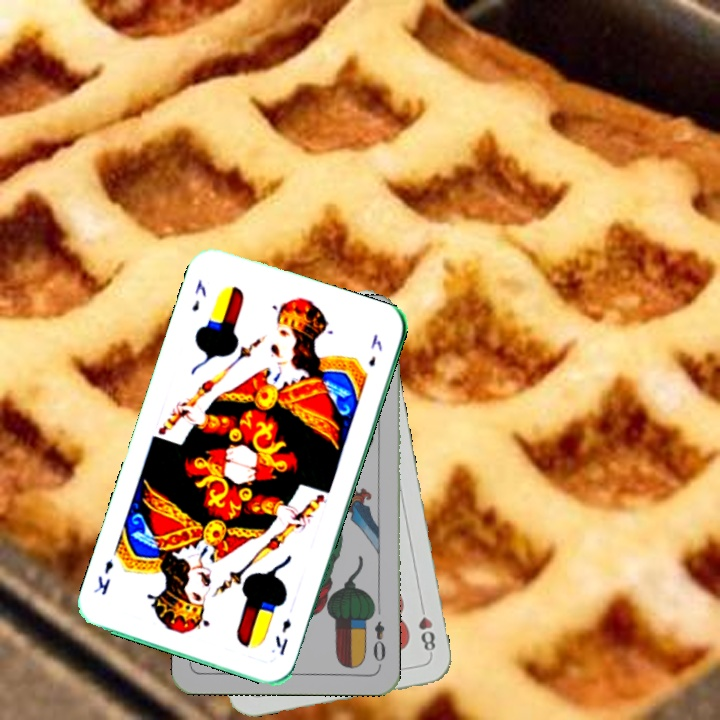EK: (271, 615, 294, 658), (187, 275, 209, 314)
EO: (368, 617, 389, 669)
H8: (414, 599, 438, 658)
